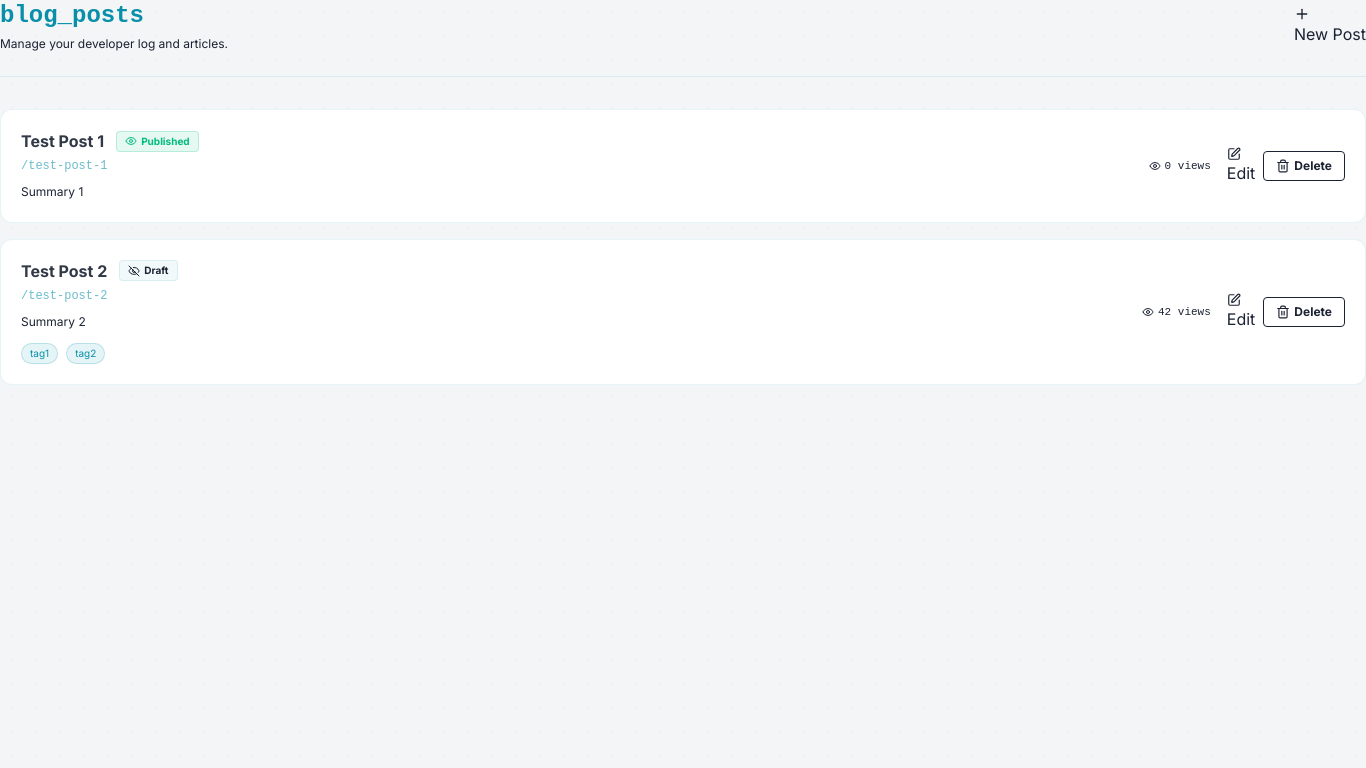
Test: BlogAdminPage › cancels deletion when cancel is clicked
This screenshot has width=1366, height=768.
Expected: the heading "Test Post 1" is shown, [21,130,104,152]
Click the button "Delete" in the row of "test-post-1".
click(1304, 166)  # box [1263,151,1345,181]
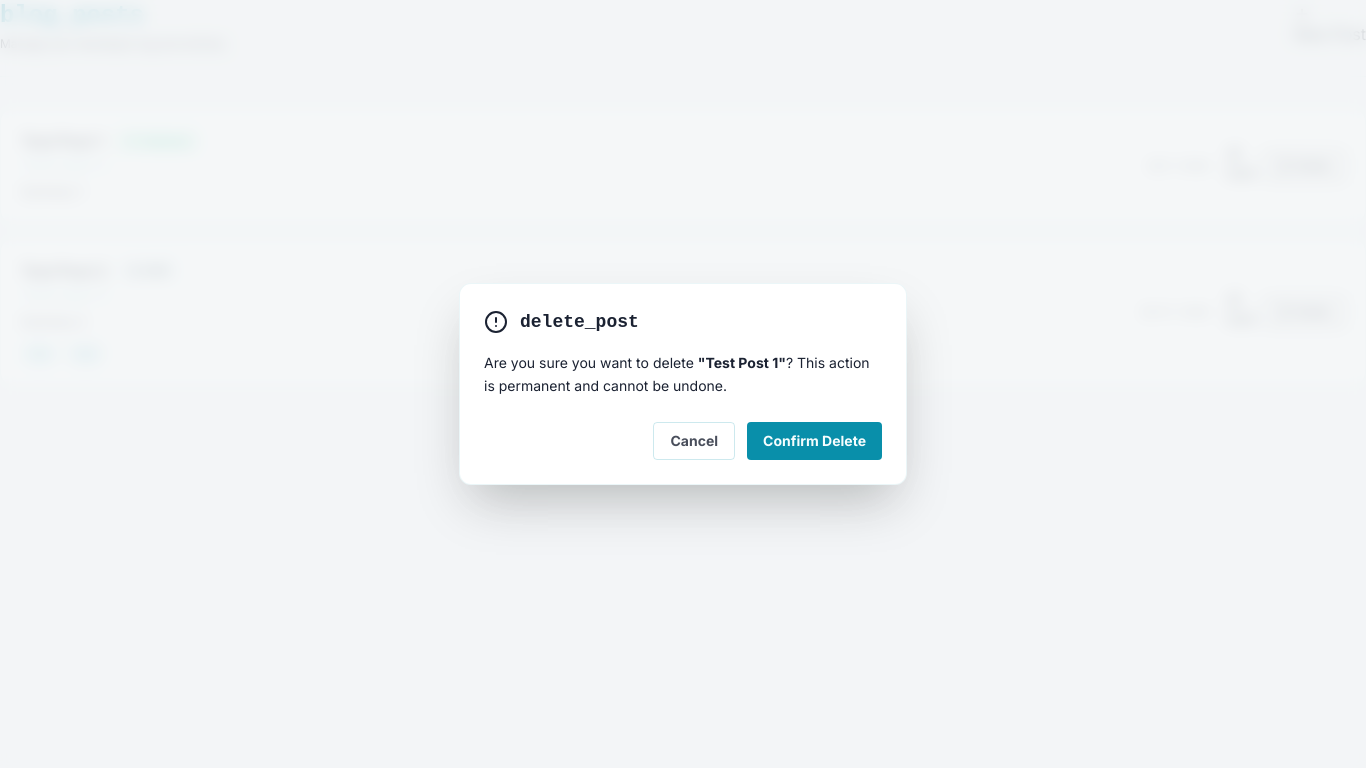
Click the button "Cancel".
click(694, 441)  # box [654,422,735,460]
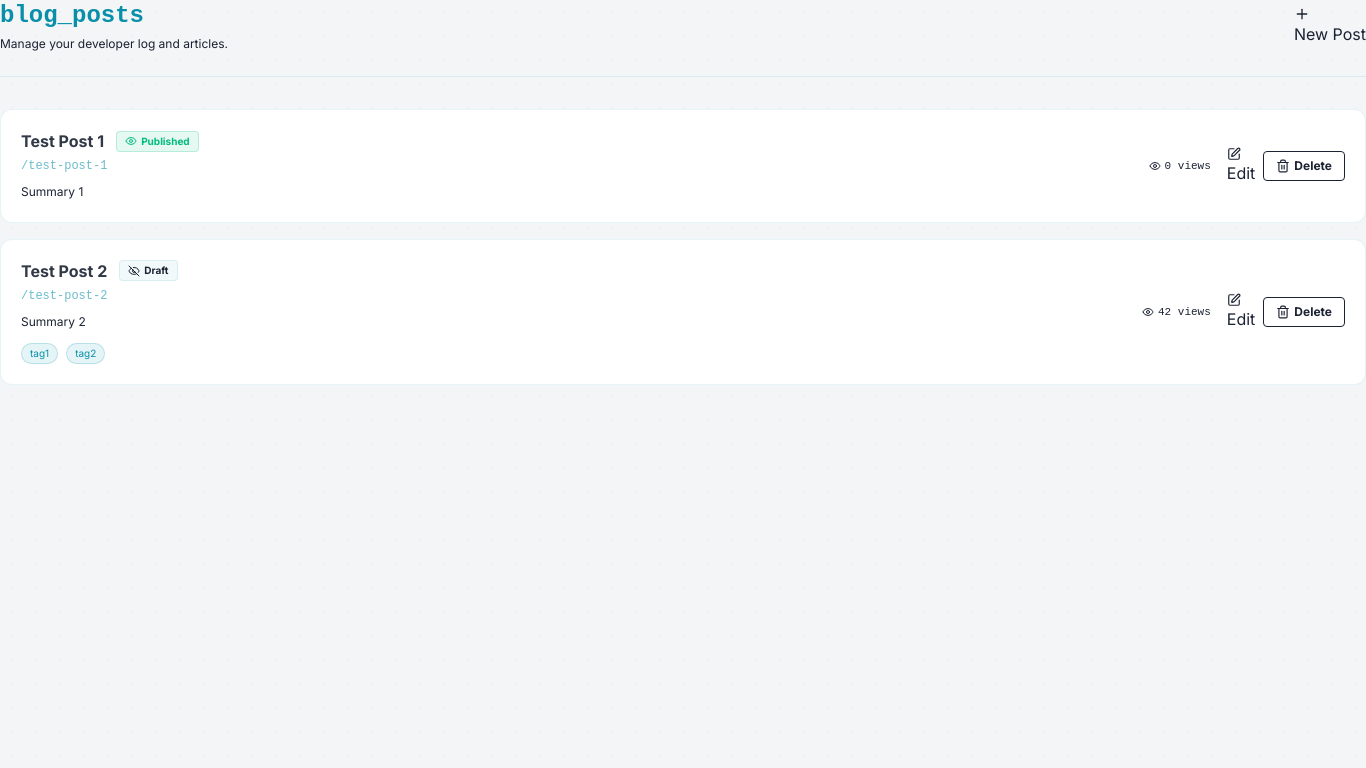
Expected: the heading "delete_post" is gone
